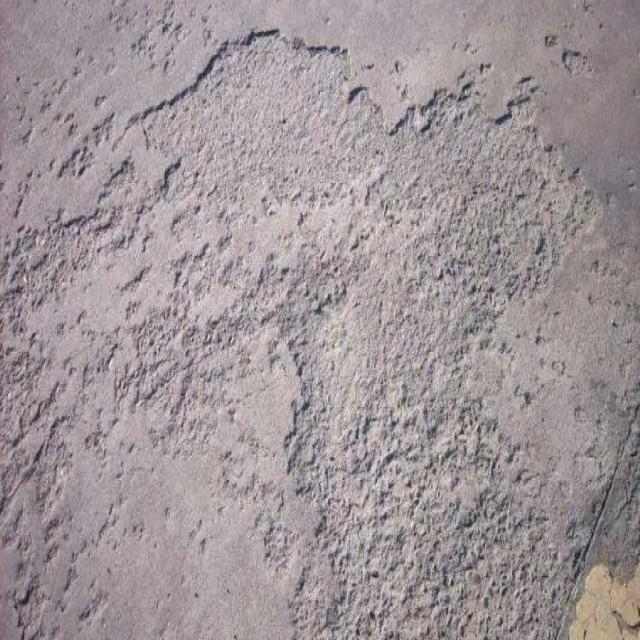Pothole: (92, 27, 590, 614)
